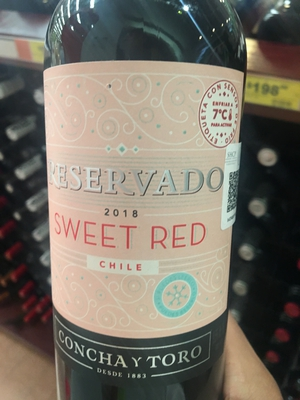reservado sweet red: (35, 6, 249, 400)
